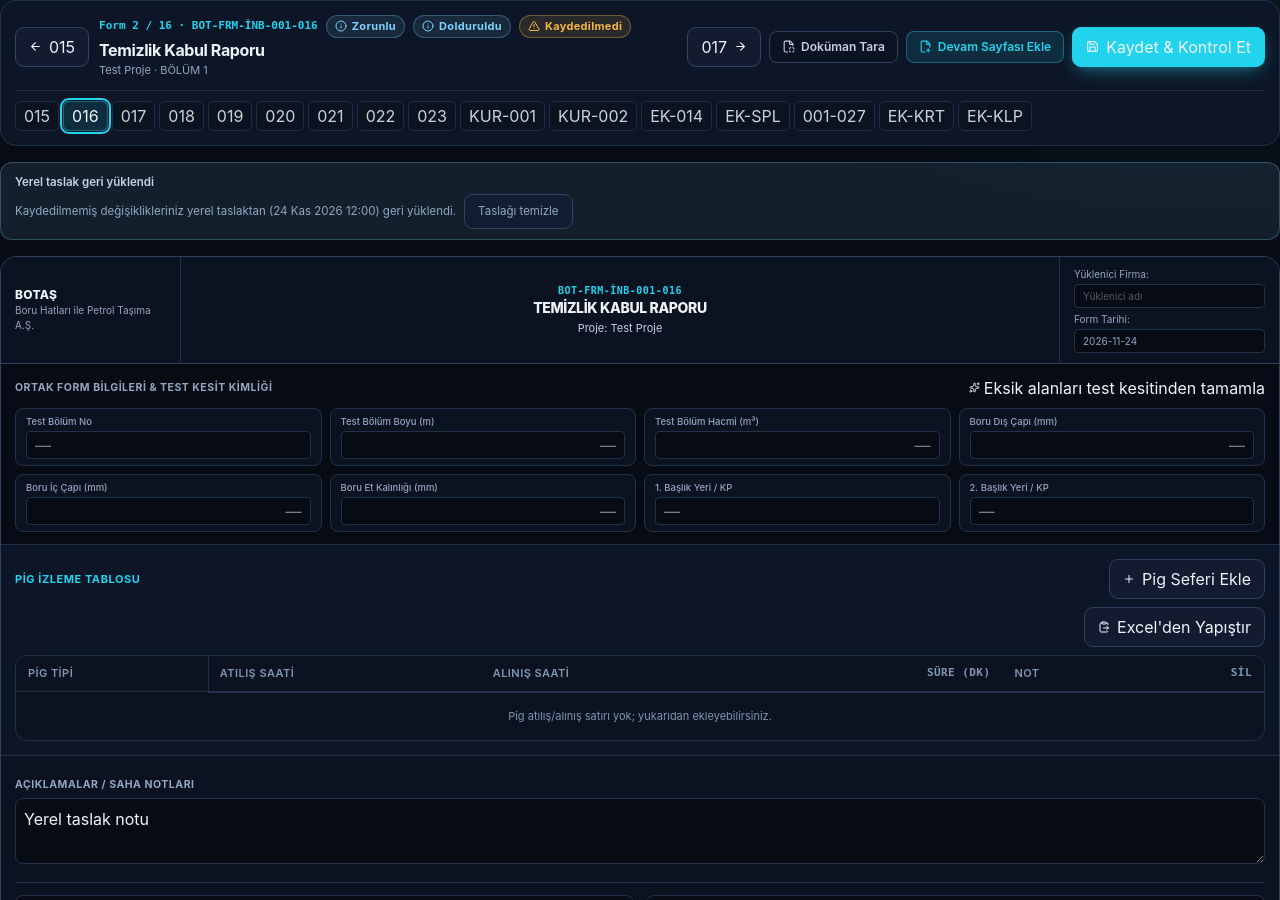
Scenario: SectionFormPage optimistic concurrency (F1) › restores matching local draft on mount and clears it when discarded (R7)
The image size is (1280, 900).
Check: the text "Yerel taslak geri yüklendi" is shown, box [15, 175, 154, 189]
Check: the field showing "2026-11-24" is shown, box [1074, 329, 1265, 353]
Click the button "Taslağı temizle" at (518, 211), box [464, 194, 573, 229]
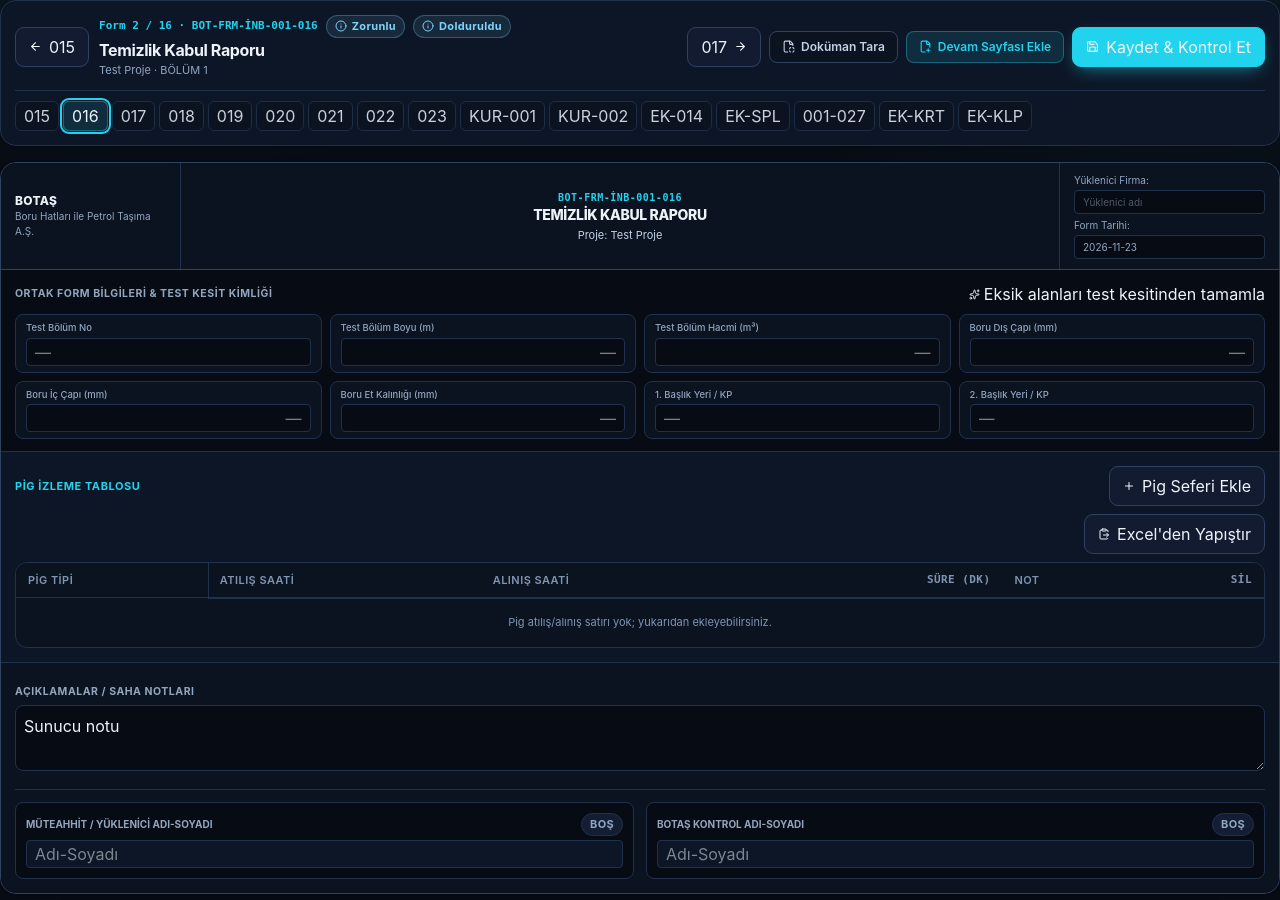
Check: the text "Yerel taslak geri yüklendi" is gone
Check: the field showing "2026-11-23" is shown, box [1074, 235, 1265, 259]
